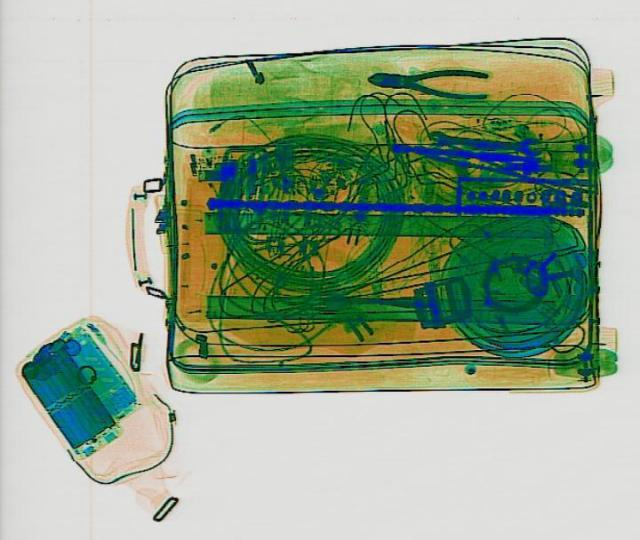Pliers: (364, 62, 488, 97)
Wrench: (426, 125, 544, 154)
